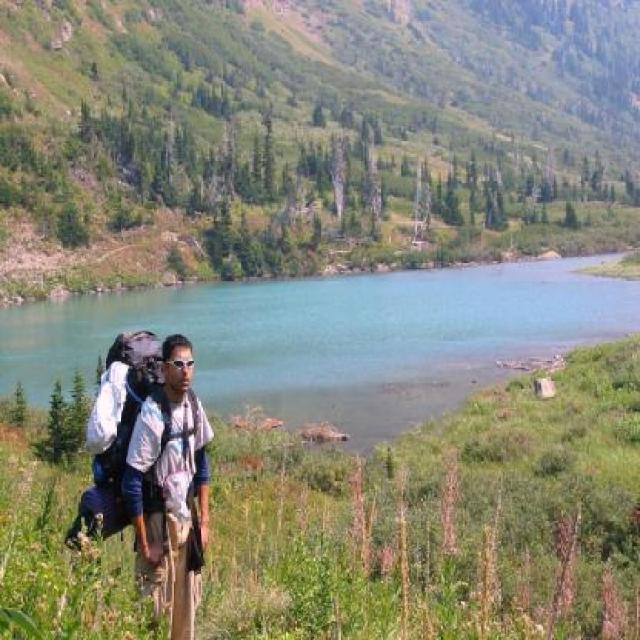backpack: (76, 324, 162, 542)
